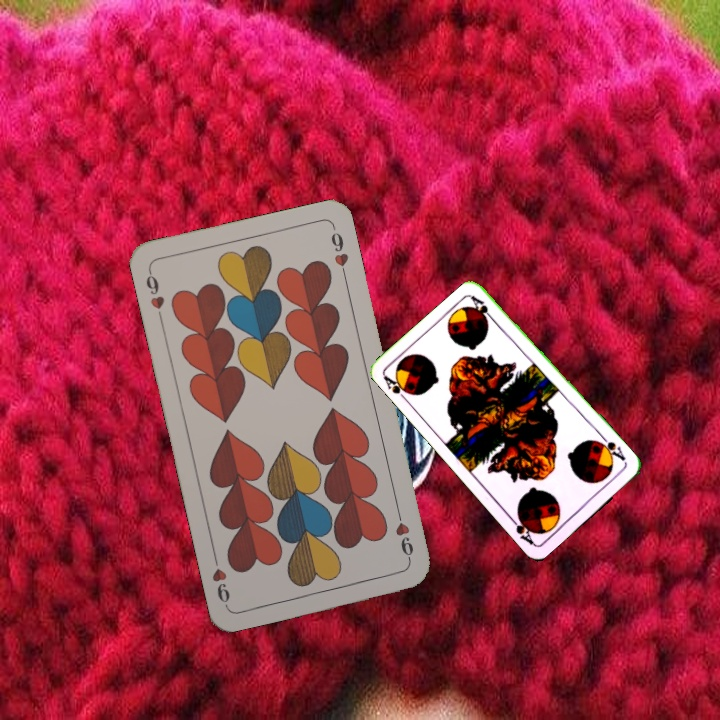H9: (141, 266, 167, 324), (391, 506, 416, 565)
SA: (379, 370, 416, 405), (593, 432, 629, 466)
